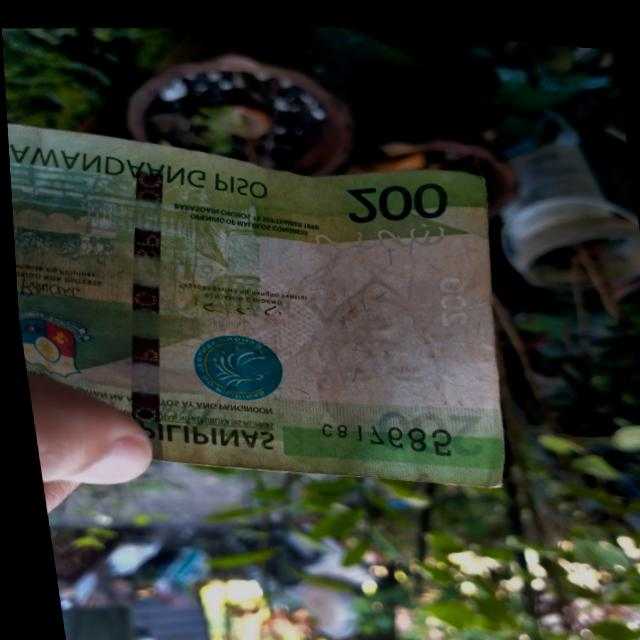security_thread: (88, 142, 199, 467)
see_through_mark: (285, 198, 451, 262)
serial_number: (312, 396, 448, 462)
value_watermark: (428, 261, 472, 324)
watermark: (269, 231, 457, 442)
